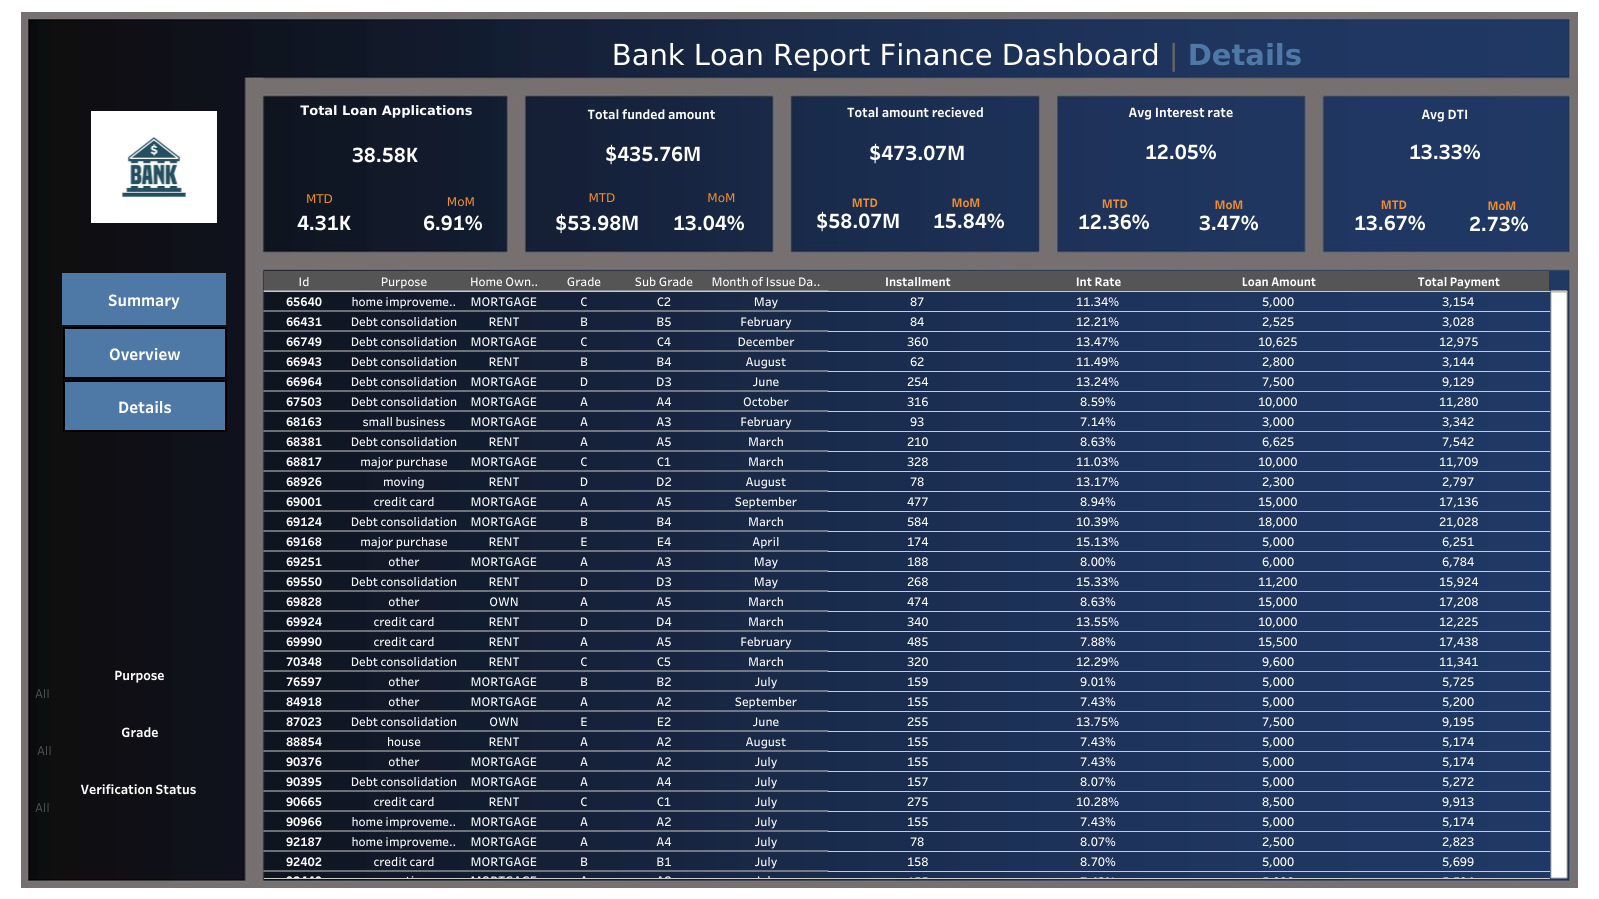

Layout of this report page (visuals, bound fields, positions):
{"tool":"tableau","page":{"name":"Details","canvas":[1600,900],"ordinal":0},"visuals":[{"type":"image","param":"Image/Tableau Background 3.jpg","box":[8,8,1584,884]},{"type":"text","box":[461.1,27,992,55.5]},{"type":"worksheet","title":"Total Loan Applications","mark":"Automatic","box":[265,96,243,84]},{"type":"worksheet","title":"Total amount recieved","mark":"Automatic","box":[792,96,247,79]},{"type":"worksheet","title":"Avg Interest rate","mark":"Automatic","box":[1058,96,246,76]},{"type":"worksheet","title":"Total funded amount","mark":"Automatic","box":[532,98,239,77]},{"type":"worksheet","title":"Avg DTI","mark":"Automatic","box":[1323,98,244,73]},{"type":"image","param":"Image/Untitled.png","box":[91,103,126,129]},{"type":"text","box":[563,182,78,30]},{"type":"text","box":[682.2,184.5,78.5,25.5]},{"type":"text","box":[280,186,79,25]},{"type":"text","box":[421.8,189,78.5,25.5]},{"type":"text","box":[815,192,100,19]},{"type":"text","box":[916,192,100,19]},{"type":"text","box":[1065,193,100,19]},{"type":"text","box":[1179,194,100,19]},{"type":"text","box":[1344,194,100,19]},{"type":"text","box":[1452,195,100,19]},{"type":"worksheet","title":"Month to date Total recieved amount ","mark":"Automatic","box":[791,198,131,45]},{"type":"worksheet","title":"Month on month recieved  amount","mark":"Automatic","box":[898,198,142,44]},{"type":"worksheet","title":"Month to date Avg interest rate","mark":"Automatic","box":[1058,198,113,46]},{"type":"worksheet","title":"Month on month Loan Applications","mark":"Automatic","box":[397,199,113,47]},{"type":"worksheet","title":"Month to date Total funded amount","mark":"Automatic","box":[526,201,140,42]},{"type":"worksheet","title":"Month on month funded amount","mark":"Automatic","box":[646,202,127,40]},{"type":"worksheet","title":"Month to date Avg DTI","mark":"Automatic","box":[1322,203,136,39]},{"type":"worksheet","title":"Month on month Avg interest rate","mark":"Automatic","box":[1157,204,145,36]},{"type":"worksheet","title":"Month to date Total Loan Applications","mark":"Automatic","box":[271,205,108,34]},{"type":"worksheet","title":"Month on month Avg interest rate (2)","mark":"Automatic","box":[1432,207,134,32]},{"type":"worksheet","title":"Details Tab","mark":"Automatic","rows":["id","purpose","home_ownership","grade","sub_grade","issue_date"],"box":[264,271,1304,608]},{"type":"dashboard-object","box":[62,273,164,52]},{"type":"dashboard-object","box":[63,327,164,52]},{"type":"dashboard-object","box":[63,380,164,52]},{"type":"filter","title":"Avg DTI","param":"[federated.14ievtu05seqk316pjgtj1fu3us4].[none:purpose:nk]","box":[33,664,213,49]},{"type":"filter","title":"Avg DTI","param":"[federated.14ievtu05seqk316pjgtj1fu3us4].[none:grade:nk]","box":[35,721,210,54]},{"type":"filter","title":"Avg DTI","param":"[federated.14ievtu05seqk316pjgtj1fu3us4].[none:verification_status:nk]","box":[33,778,211,98]}]}

Visuals, with their boxes in screenshot pixels (x1, y1, x2, y2), scaled from the page's 1600x900 canvas onto the 1599x899 screenshot:
image: l=8, t=8, r=1591, b=891
text: l=461, t=27, r=1452, b=82
"Total Loan Applications" worksheet: l=265, t=96, r=508, b=180
"Total amount recieved" worksheet: l=792, t=96, r=1038, b=175
"Avg Interest rate" worksheet: l=1057, t=96, r=1303, b=172
"Total funded amount" worksheet: l=532, t=98, r=771, b=175
"Avg DTI" worksheet: l=1322, t=98, r=1566, b=171
image: l=91, t=103, r=217, b=232
text: l=563, t=182, r=641, b=212
text: l=682, t=184, r=760, b=210
text: l=280, t=186, r=359, b=211
text: l=422, t=189, r=500, b=214
text: l=814, t=192, r=914, b=211
text: l=915, t=192, r=1015, b=211
text: l=1064, t=193, r=1164, b=212
text: l=1178, t=194, r=1278, b=213
text: l=1343, t=194, r=1443, b=213
text: l=1451, t=195, r=1551, b=214
"Month to date Total recieved amount " worksheet: l=791, t=198, r=921, b=243
"Month on month recieved  amount" worksheet: l=897, t=198, r=1039, b=242
"Month to date Avg interest rate" worksheet: l=1057, t=198, r=1170, b=244
"Month on month Loan Applications" worksheet: l=397, t=199, r=510, b=246
"Month to date Total funded amount" worksheet: l=526, t=201, r=666, b=243
"Month on month funded amount" worksheet: l=646, t=202, r=773, b=242
"Month to date Avg DTI" worksheet: l=1321, t=203, r=1457, b=242
"Month on month Avg interest rate" worksheet: l=1156, t=204, r=1301, b=240
"Month to date Total Loan Applications" worksheet: l=271, t=205, r=379, b=239
"Month on month Avg interest rate (2)" worksheet: l=1431, t=207, r=1565, b=239
"Details Tab" worksheet: l=264, t=271, r=1567, b=878
dashboard-object: l=62, t=273, r=226, b=325
dashboard-object: l=63, t=327, r=227, b=379
dashboard-object: l=63, t=380, r=227, b=432
"Avg DTI" filter: l=33, t=663, r=246, b=712
"Avg DTI" filter: l=35, t=720, r=245, b=774
"Avg DTI" filter: l=33, t=777, r=244, b=875
